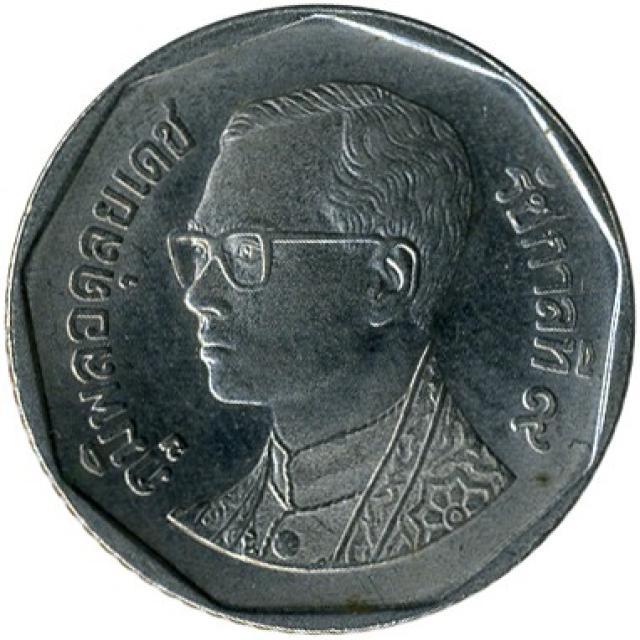5 Bath: (1, 1, 639, 635)
